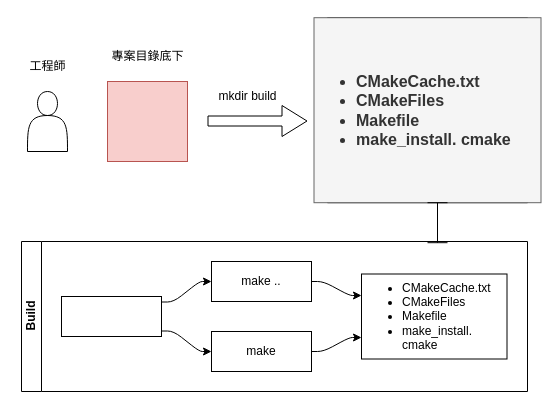
The diagram is 558 pixels wide and 409 high, and some of its shapes have lost their labels. Each missing label, with the box of its shape:
CMakeLists.txt: (106, 80, 188, 162)
command-line: (60, 296, 162, 336)
